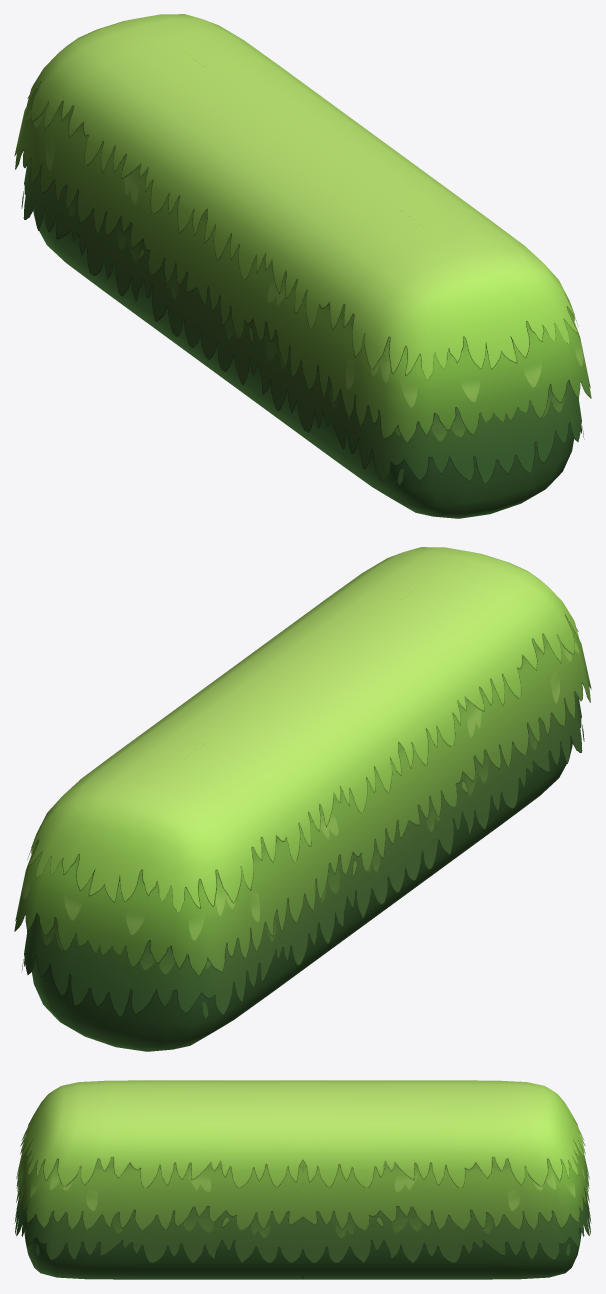
The model's file is Fence_Bush.fbx.
3 views of the same model, one above another, from view 1: azimuth 30°, elevation 25°; view 2: azimuth 150°, elevation 25°; view 3: azimuth 270°, elevation 25° (orthographic). The views are drawn at different scales.
Parts seen in each view (by area): view 1: Cube; view 2: Cube; view 3: Cube.
Part boxes in pixels (x1,y1,x2,y2): Cube: (14,14,591,518); Cube: (14,547,591,1051); Cube: (14,1080,591,1279).
Bounding box in the file's own units: 1.31 × 1.42 × 4.32.
